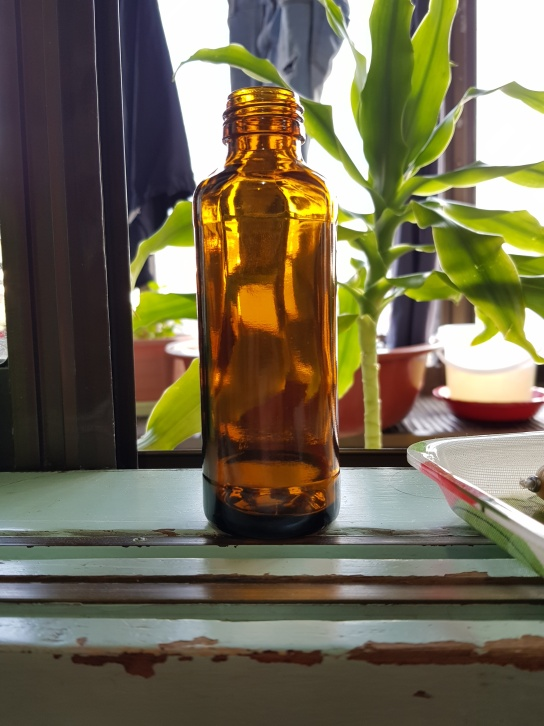Glass: (191, 91, 338, 536)
